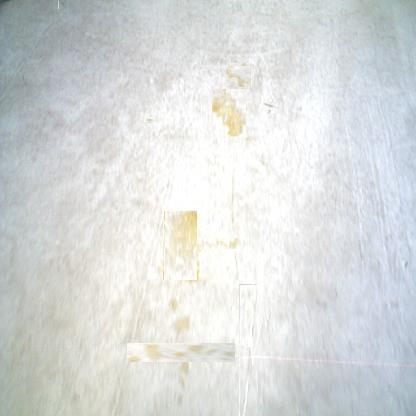liquid: (149, 320, 213, 384), (164, 210, 198, 280), (239, 284, 257, 416), (212, 89, 246, 137), (227, 64, 251, 89), (198, 238, 238, 249)
mark: (265, 101, 277, 112), (145, 116, 154, 124), (58, 1, 67, 9), (403, 260, 408, 270)
